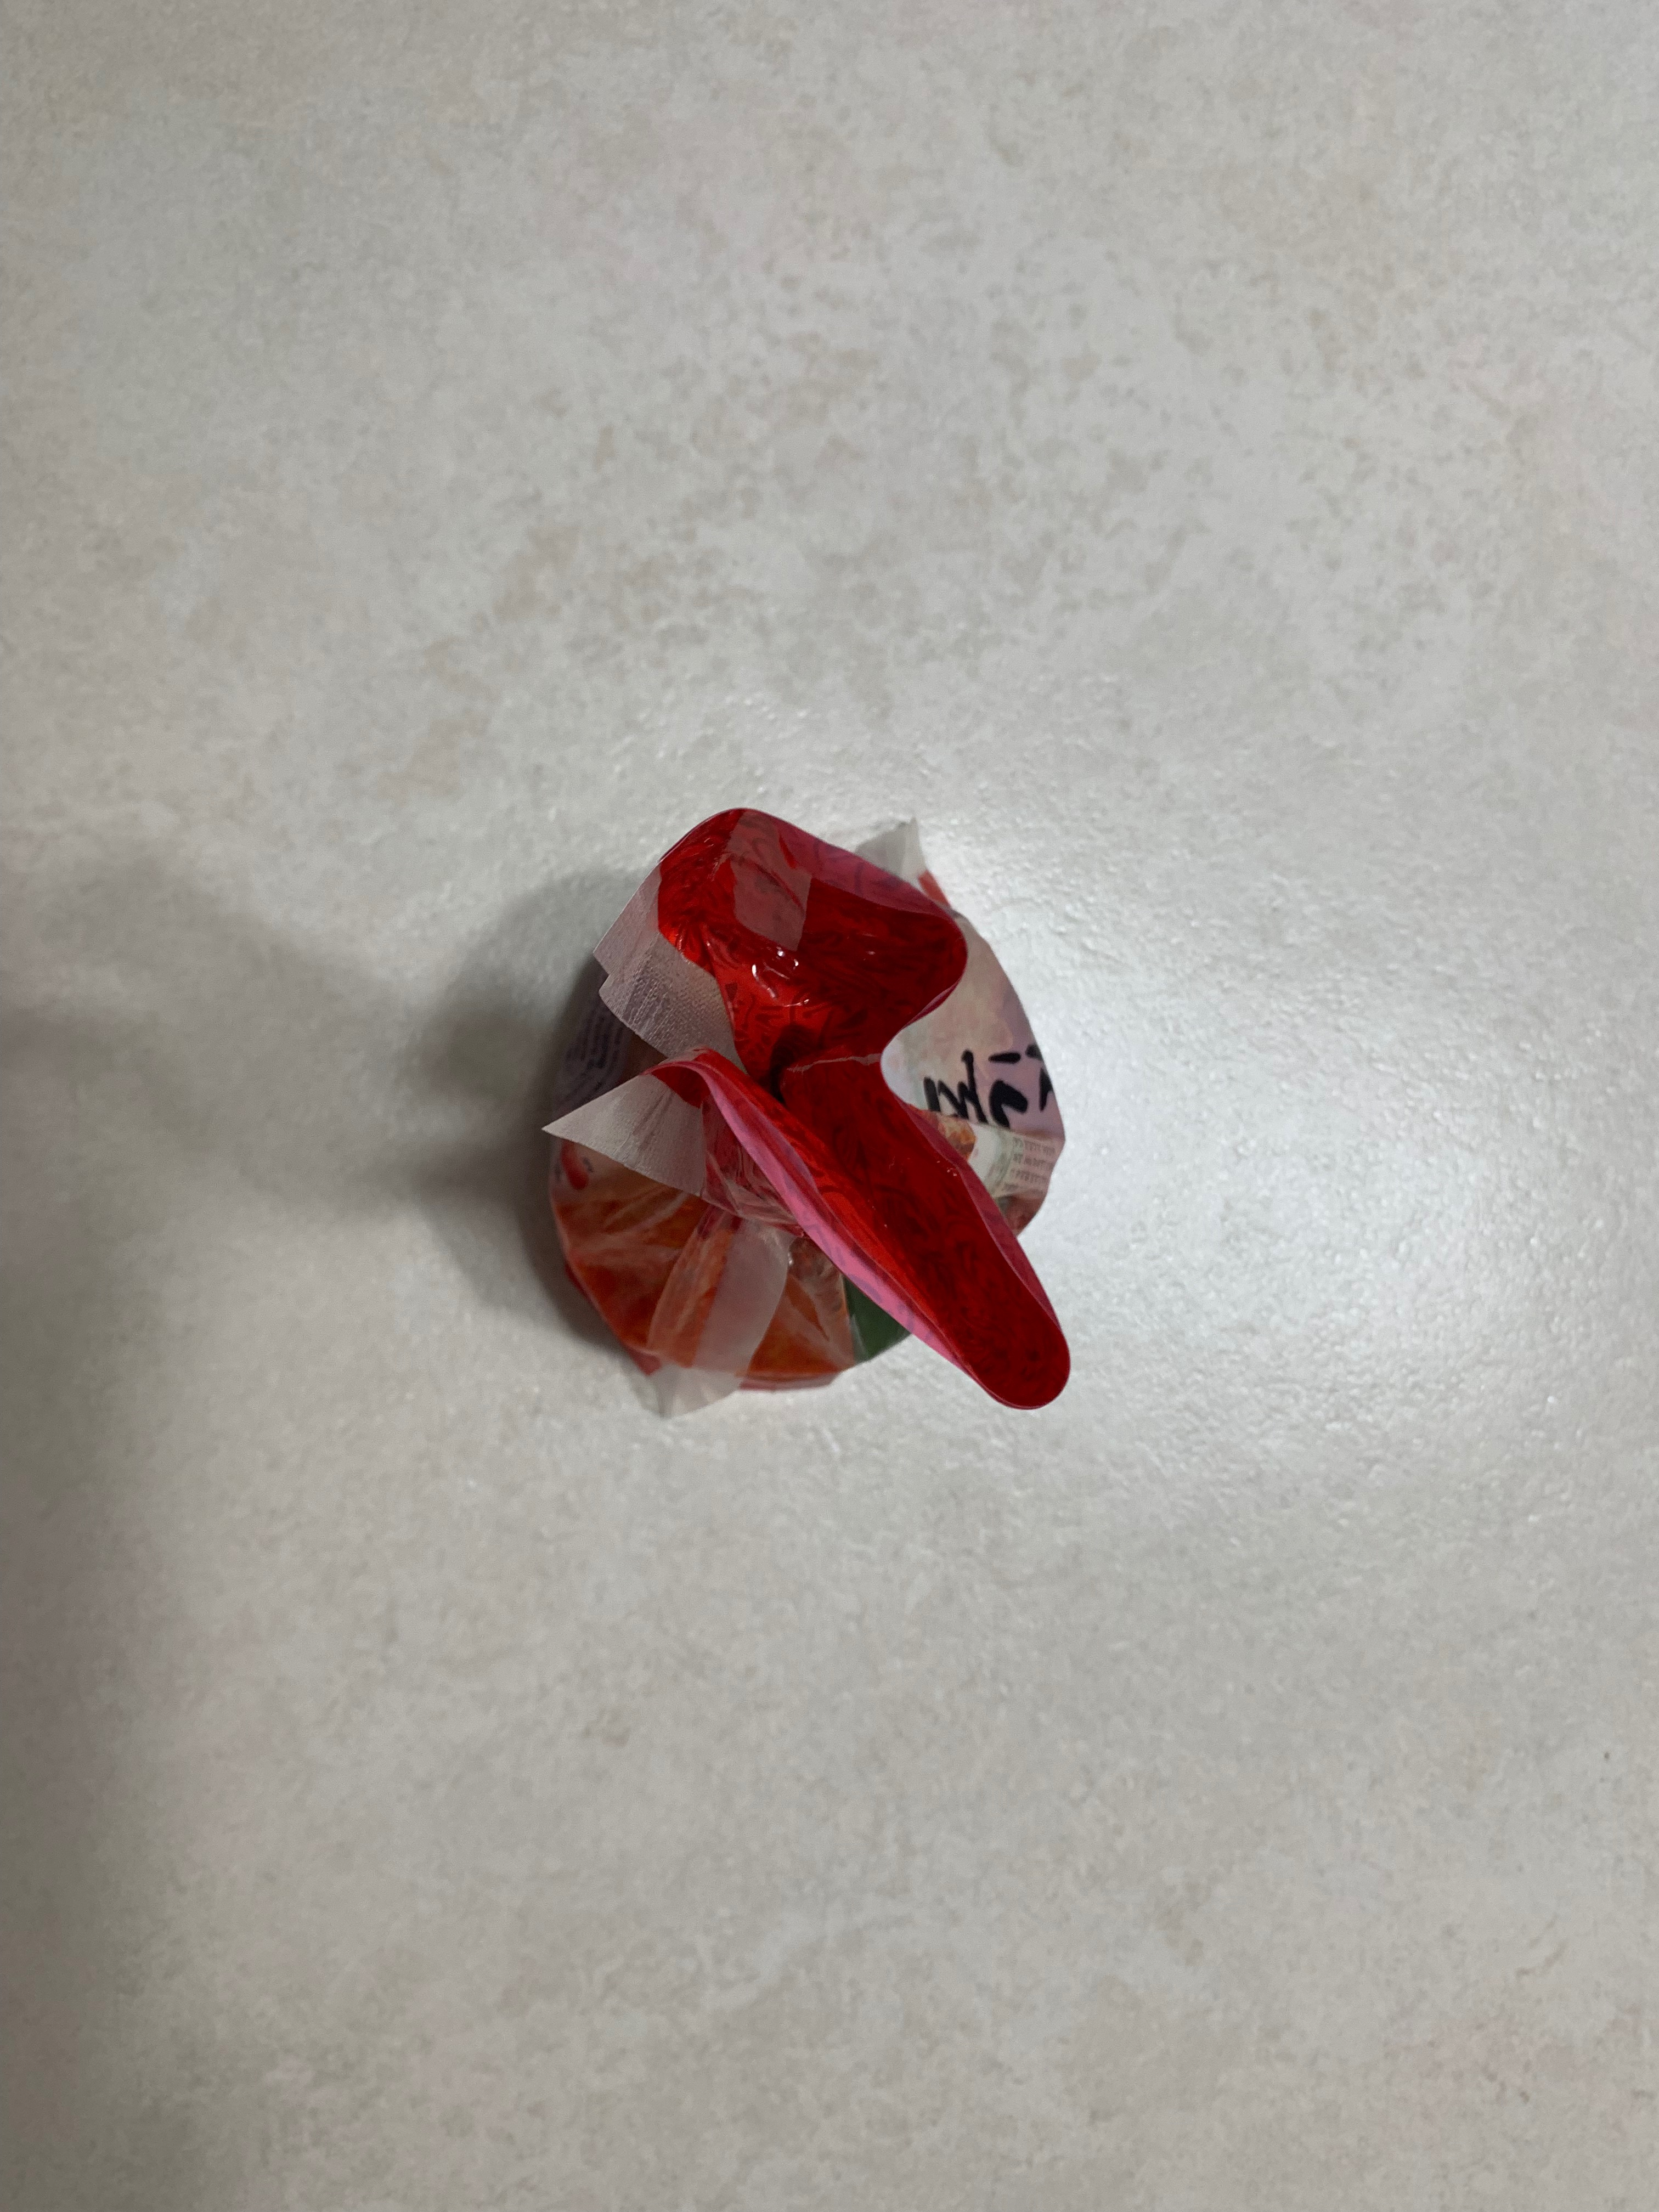kimchi: (538, 806, 1072, 1416)
